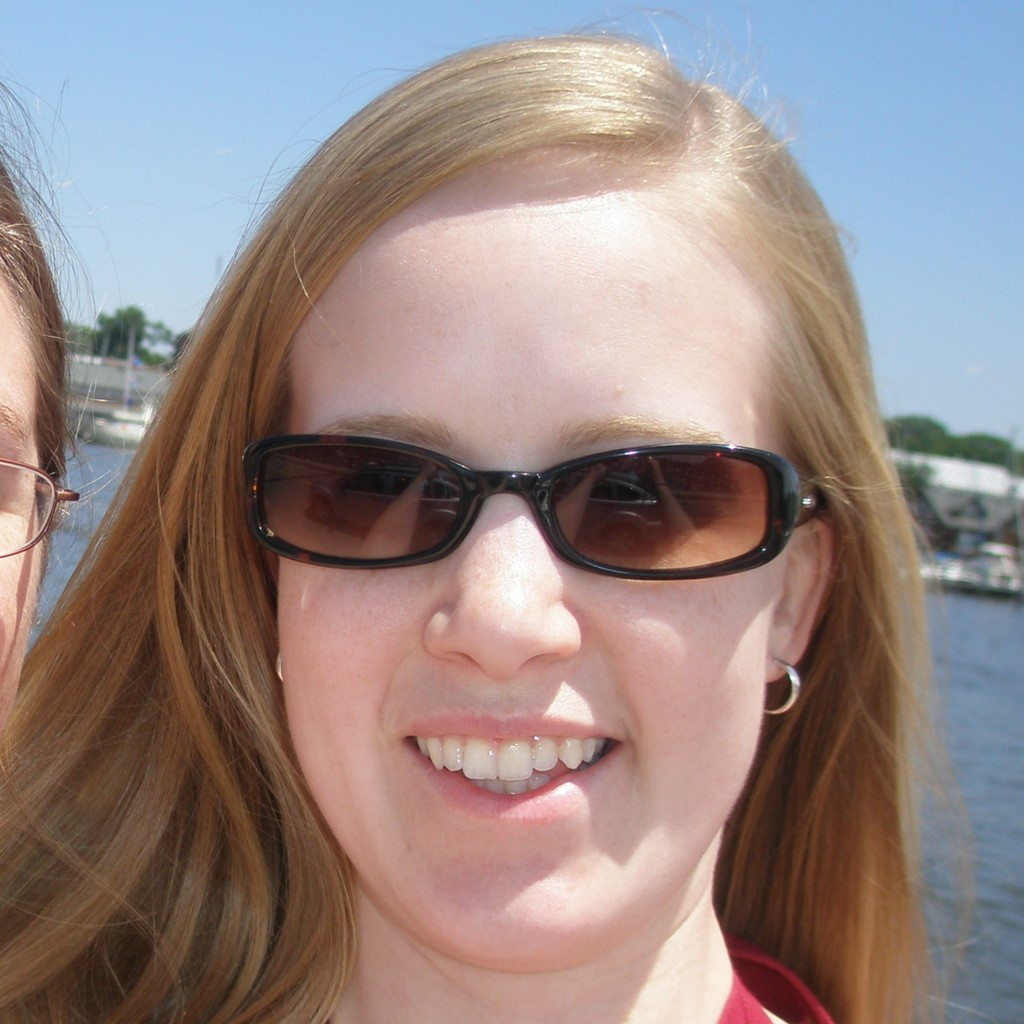sin_mascara: (253, 132, 821, 995)
